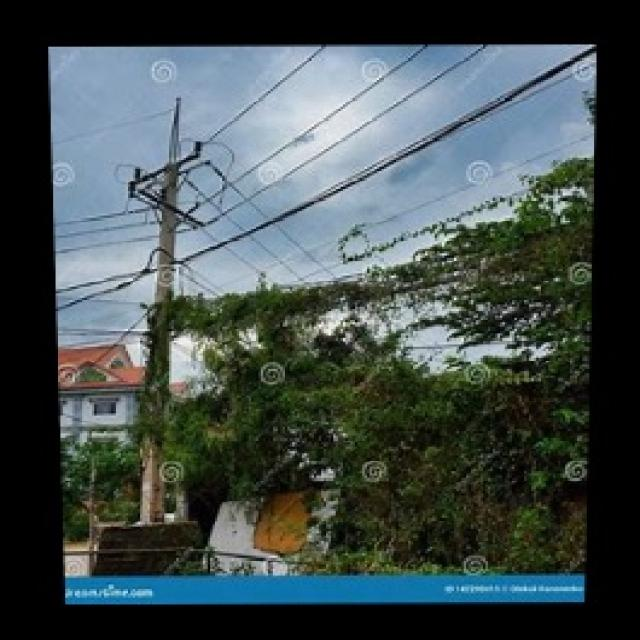critical vegetation: (165, 257, 585, 377)
